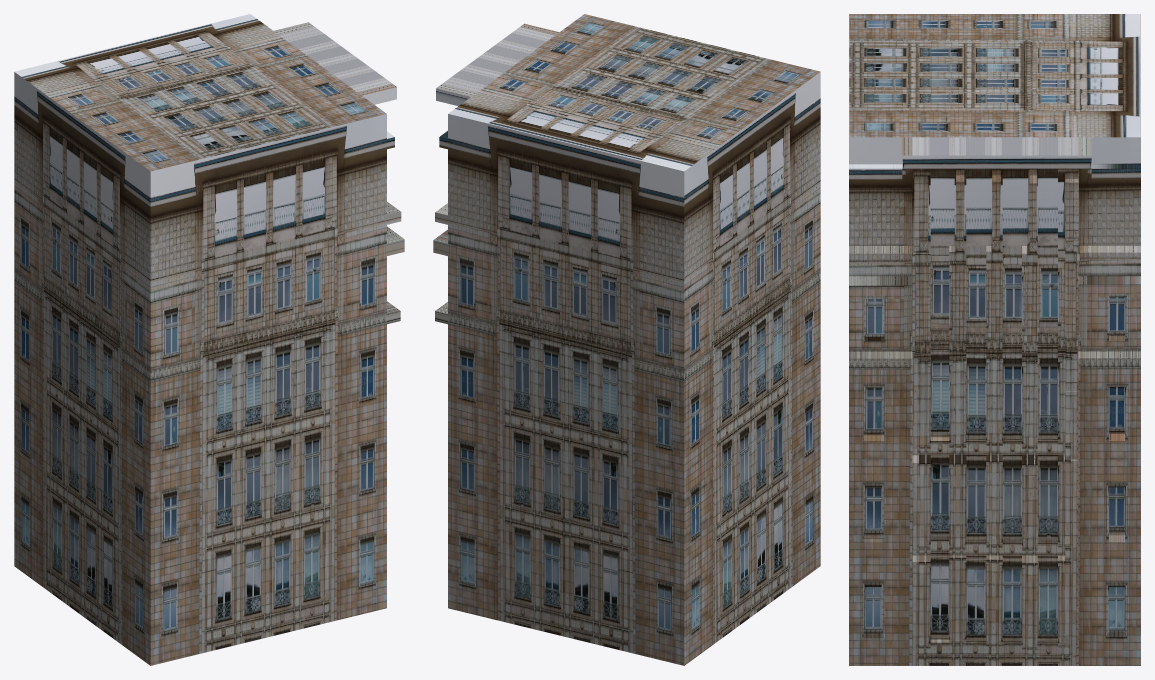
Rendered from Building.fbx.
3 views of the same model, side by side, from view 1: azimuth 30°, elevation 25°; view 2: azimuth 150°, elevation 25°; view 3: azimuth 270°, elevation 25° (orthographic). The views are drawn at different scales.
Parts seen in each view (by area): view 1: Cube; view 2: Cube; view 3: Cube.
Boxes of the visible parts, x1,y1,x2,y2 form: Cube: (14, 14, 404, 665); Cube: (433, 14, 820, 665); Cube: (849, 14, 1140, 665).
Size of the model in its own units: 230 by 400 by 200.
